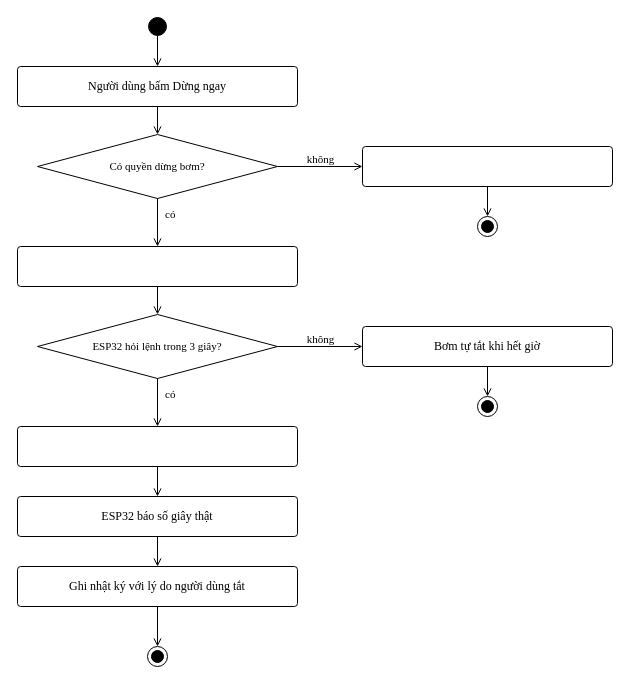
Some shapes in this 630 by 684 pixel diagram are drawn without their labels. Each missing label, with the centre of its shape:
"ESP32 tắt relay" belongs at (x=157, y=446).
"Lỗi 403" belongs at (x=487, y=166).
"Xếp lệnh OFF, giải phóng lệnh đang chạy" belongs at (x=157, y=266).
